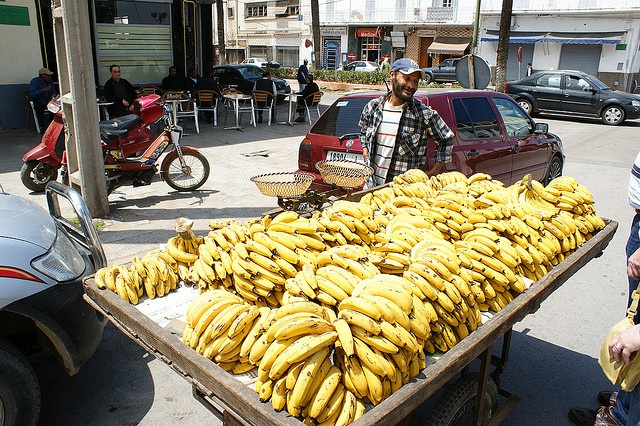non-vehicle: (20, 93, 165, 192), (60, 101, 210, 196)
